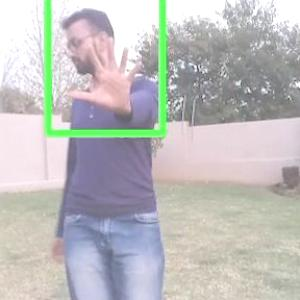follow_hand: (61, 29, 151, 116)
